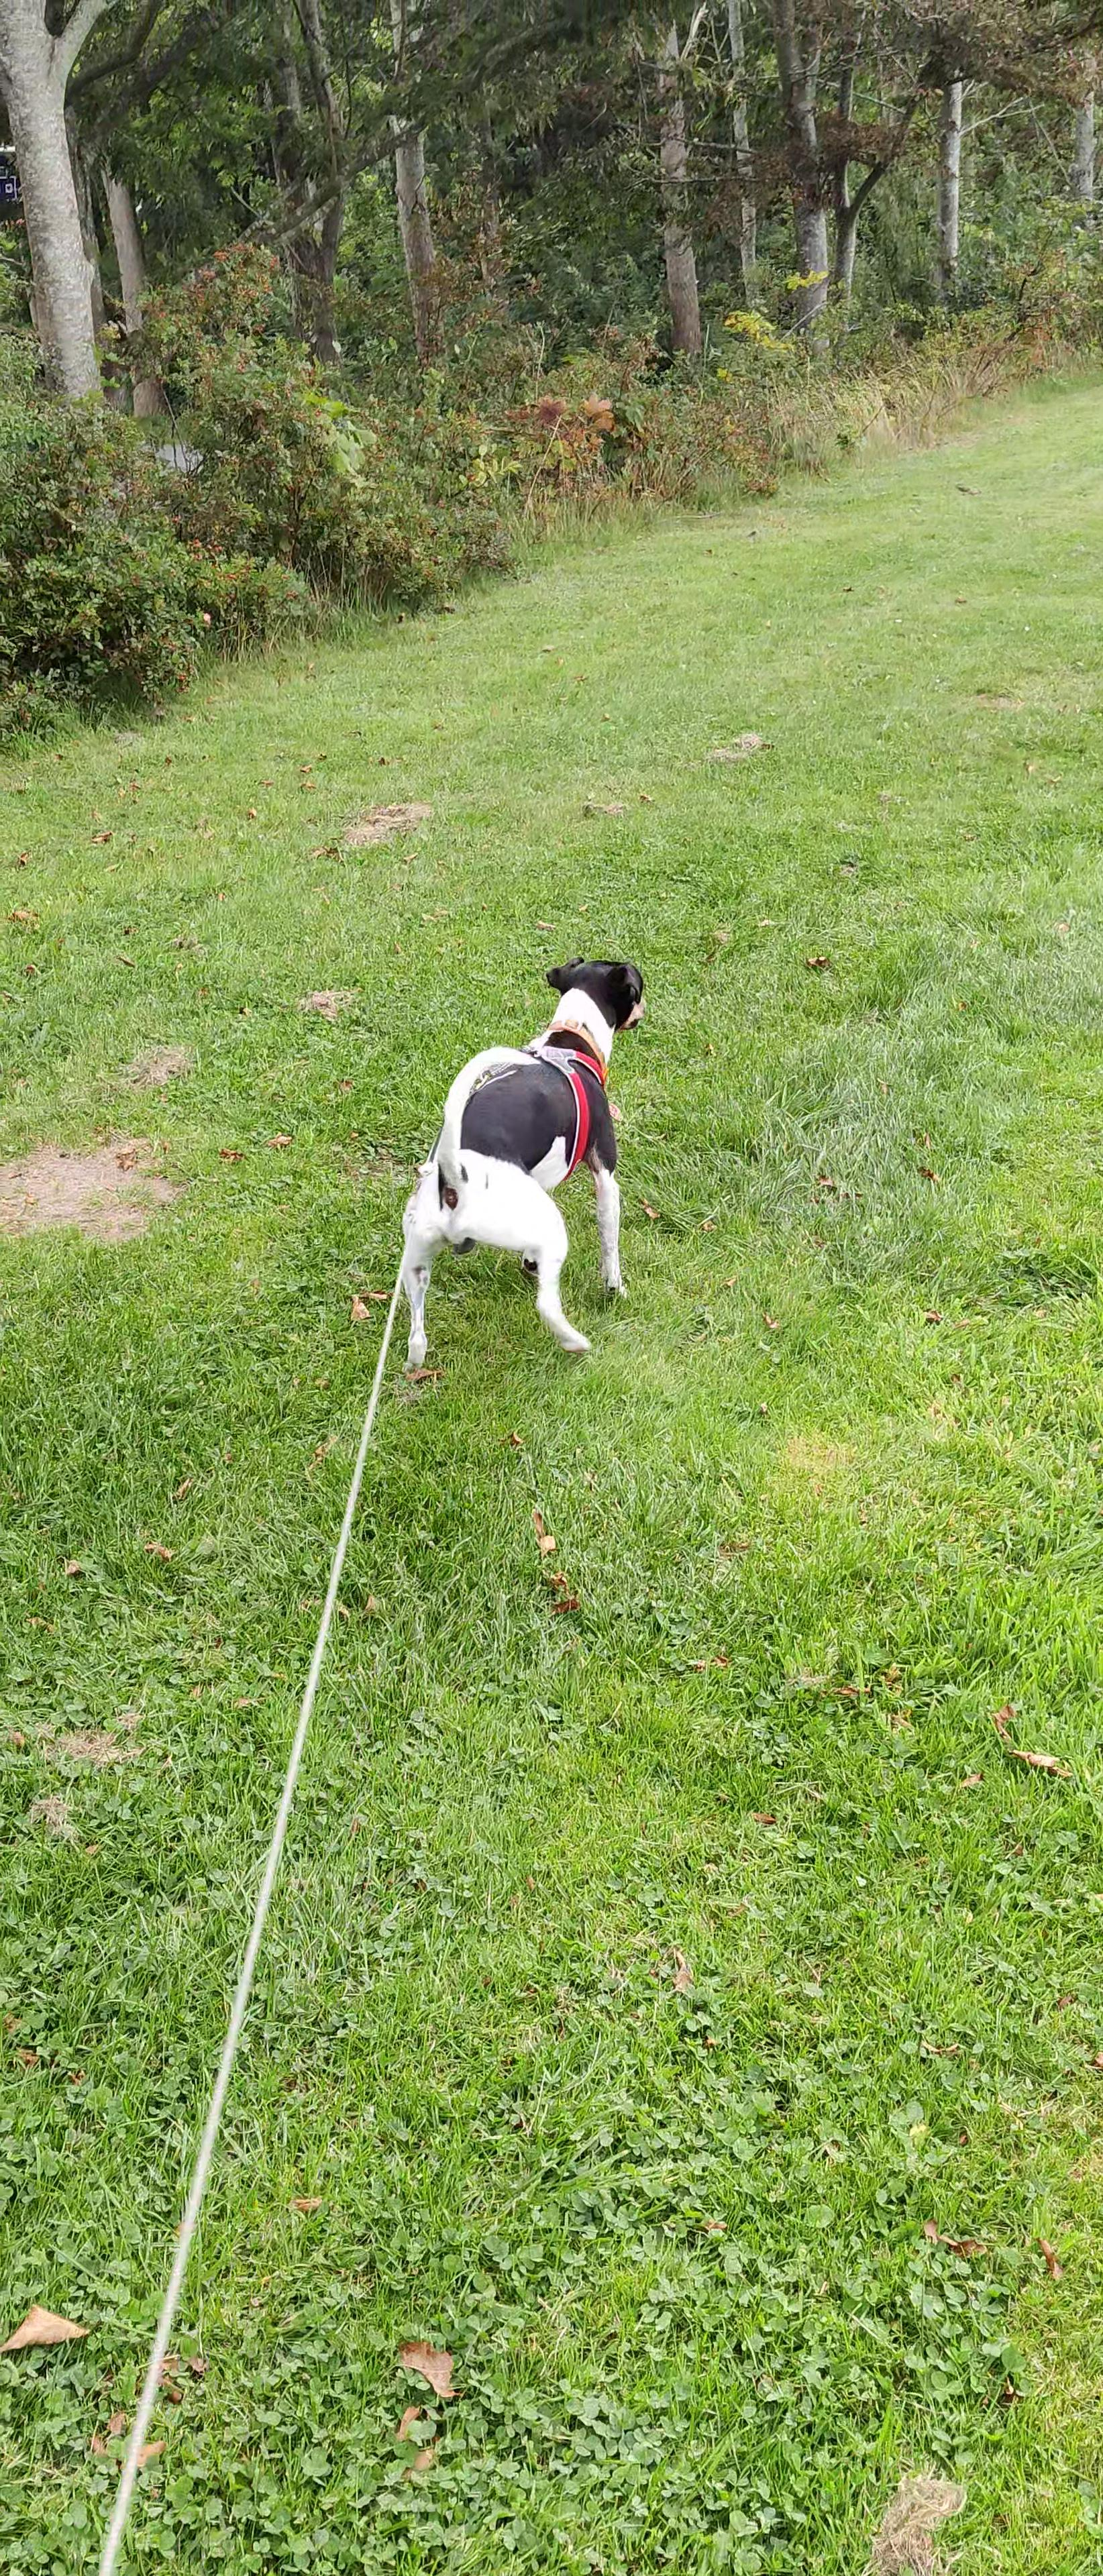Dog: (381, 951, 653, 1378)
